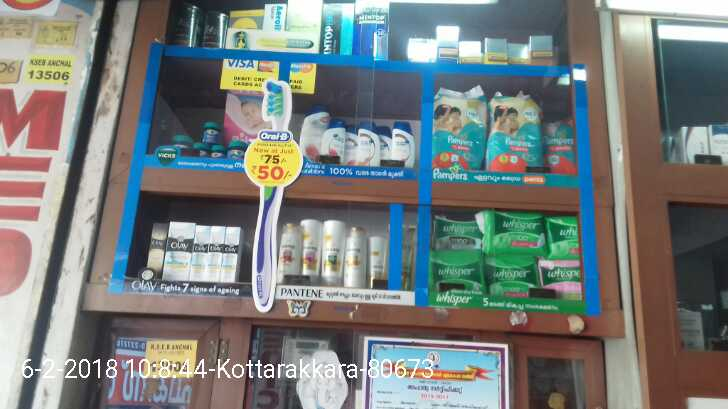vicks: (174, 119, 245, 157)
